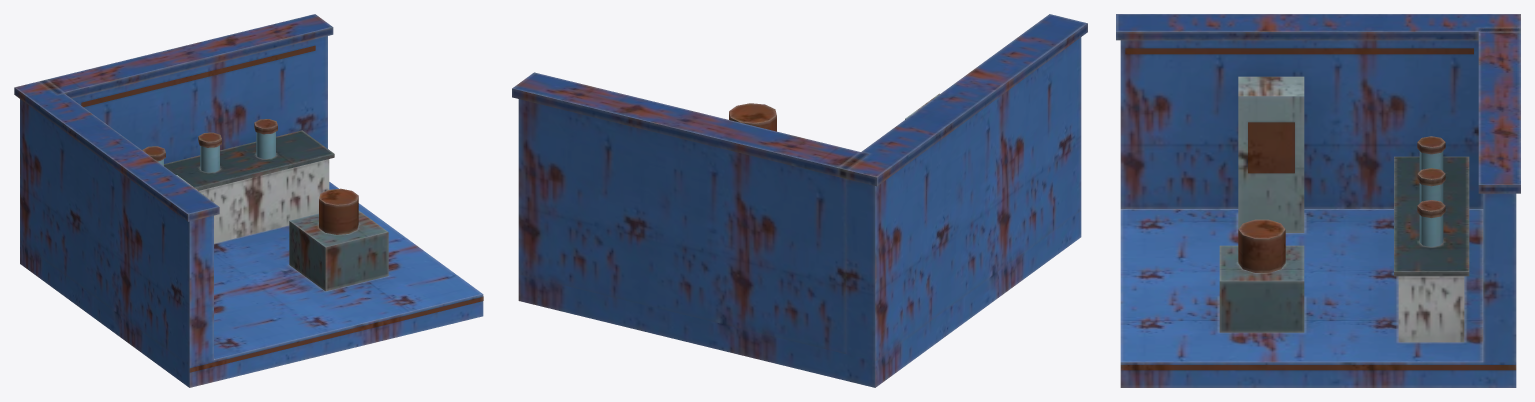
File: planetology_lab.glb
3 views of the same model, side by side, from view 1: azimuth 30°, elevation 25°; view 2: azimuth 150°, elevation 25°; view 3: azimuth 270°, elevation 25° (orthographic). The views are drawn at different scales.
Visible parts, largest first — view 1: te_planetology_lab; view 2: te_planetology_lab; view 3: te_planetology_lab.
Boxes of the visible parts, bbox=[...] form: te_planetology_lab: bbox=[14, 14, 483, 387]; te_planetology_lab: bbox=[512, 14, 1087, 387]; te_planetology_lab: bbox=[1116, 14, 1520, 387].
Bounding box in the file's own units: 0.86 × 0.48 × 0.86.
Materials: 1 (1 with a texture image).
